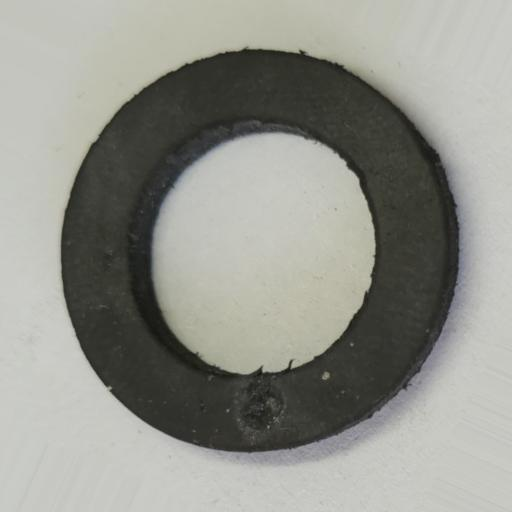defect: (240, 380, 284, 430)
